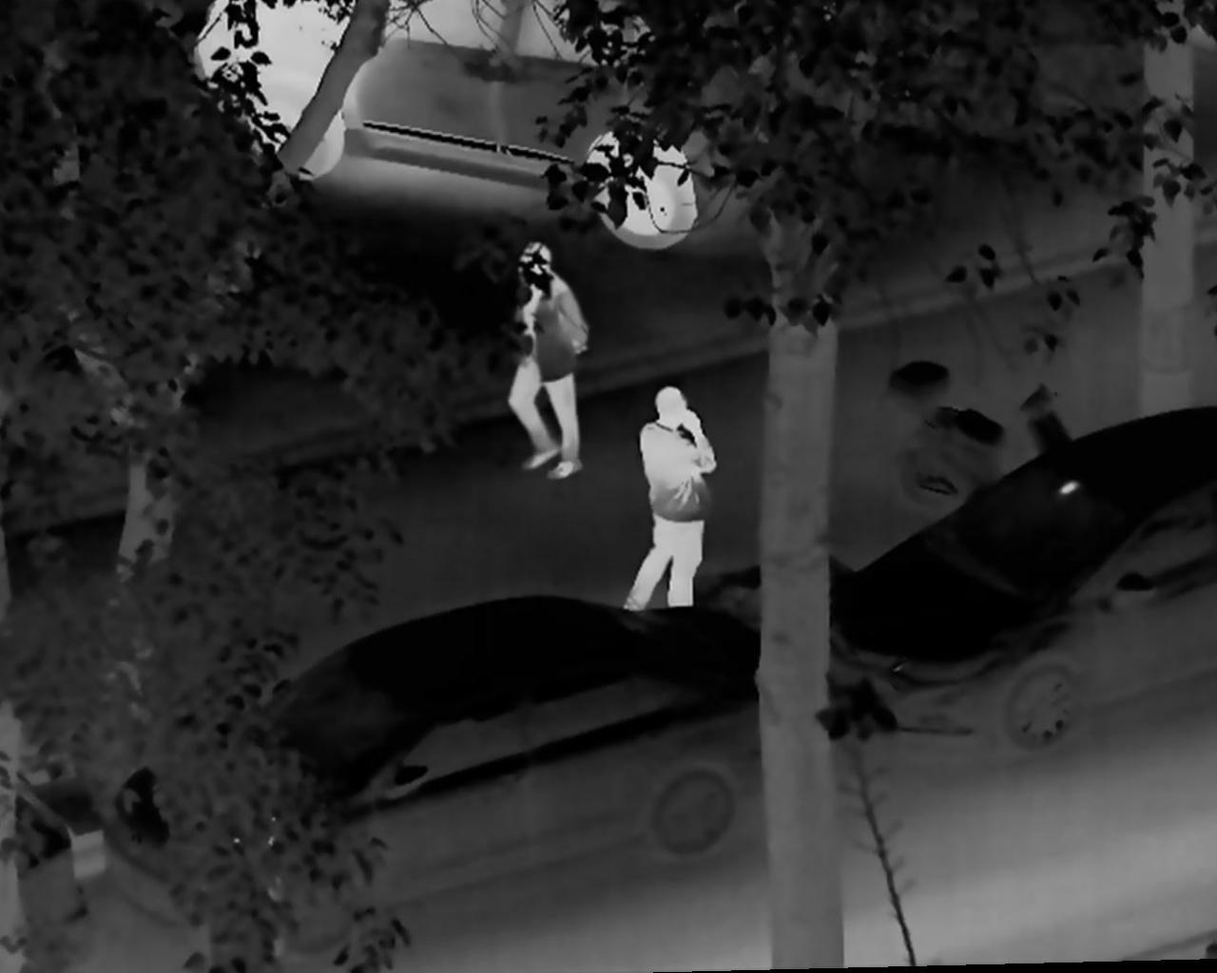person: (496, 245, 595, 488), (622, 383, 714, 620)
